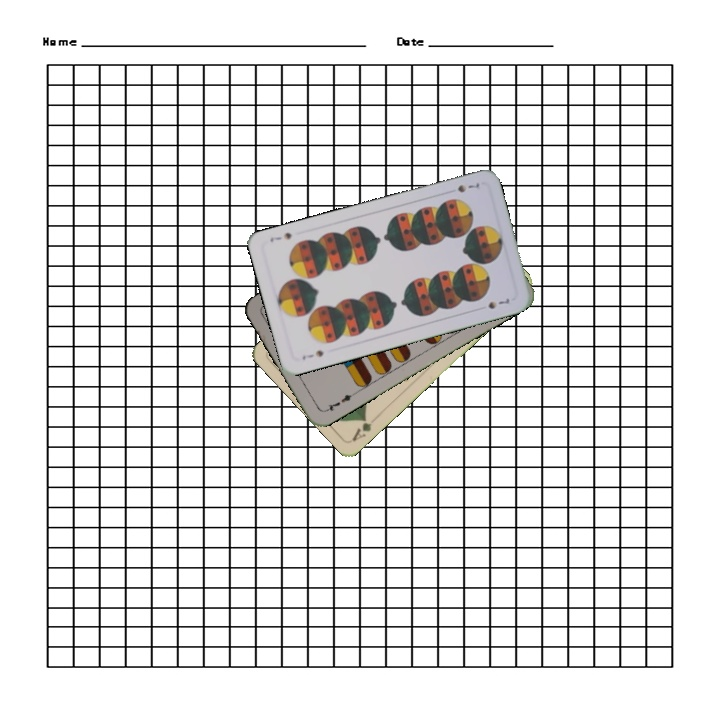E7: (321, 389, 358, 415)
GA: (348, 413, 374, 444)
S7: (453, 179, 483, 195), (298, 346, 326, 363)
